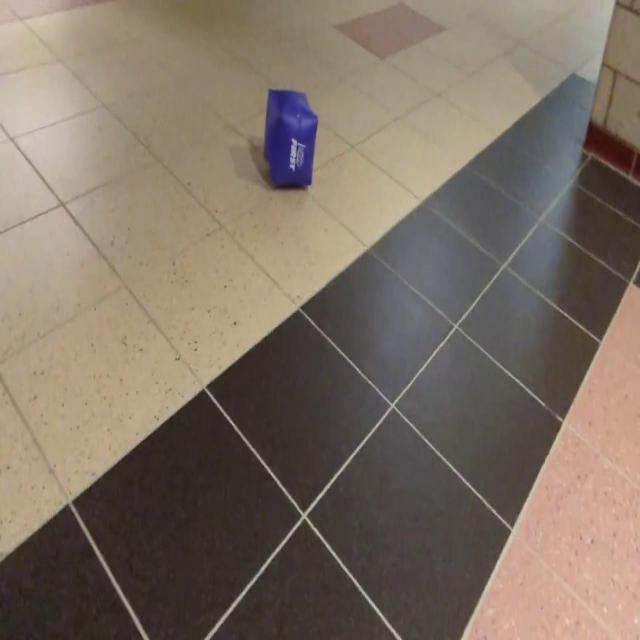frc_cube: (262, 91, 318, 186)
